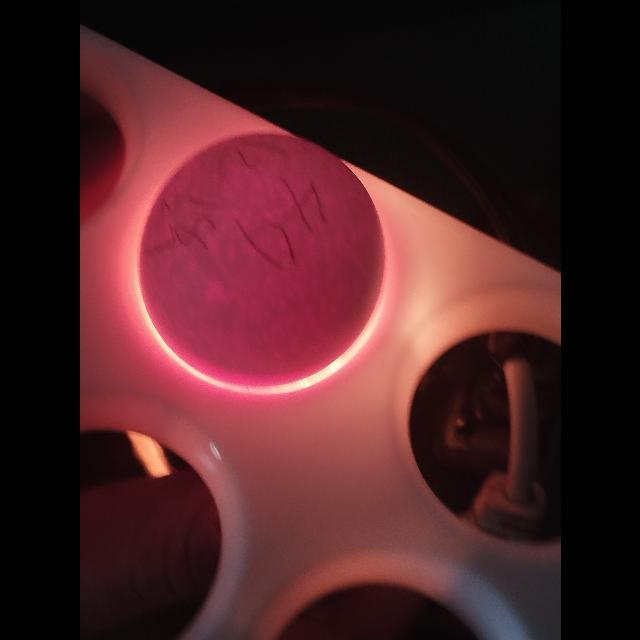Infertile: (133, 126, 389, 394)
